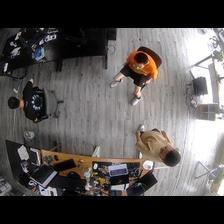normal: (108, 43, 159, 107), (7, 78, 63, 124), (135, 122, 184, 170)
